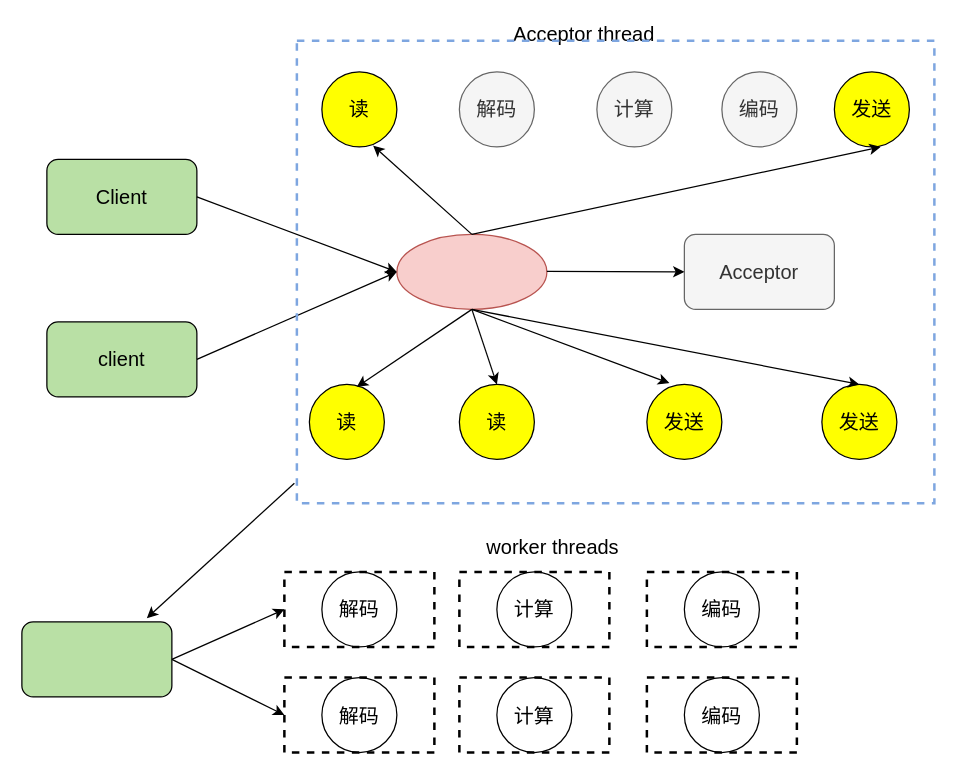
Some shapes in this 958 by 775 pixel diagram are drawn without their labels. Here are the shapes that lost their labels. From the top down, the centre of each, then its label:
pixel 471 271: Reactor dispatch
pixel 96 659: 线程池
